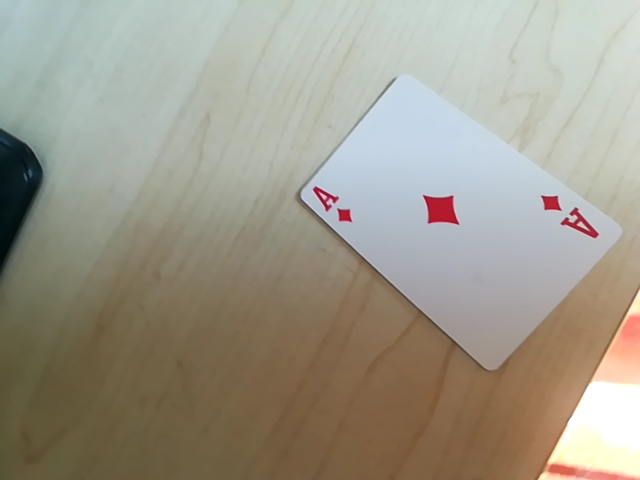fk a: (538, 189, 603, 245), (298, 184, 357, 233)
